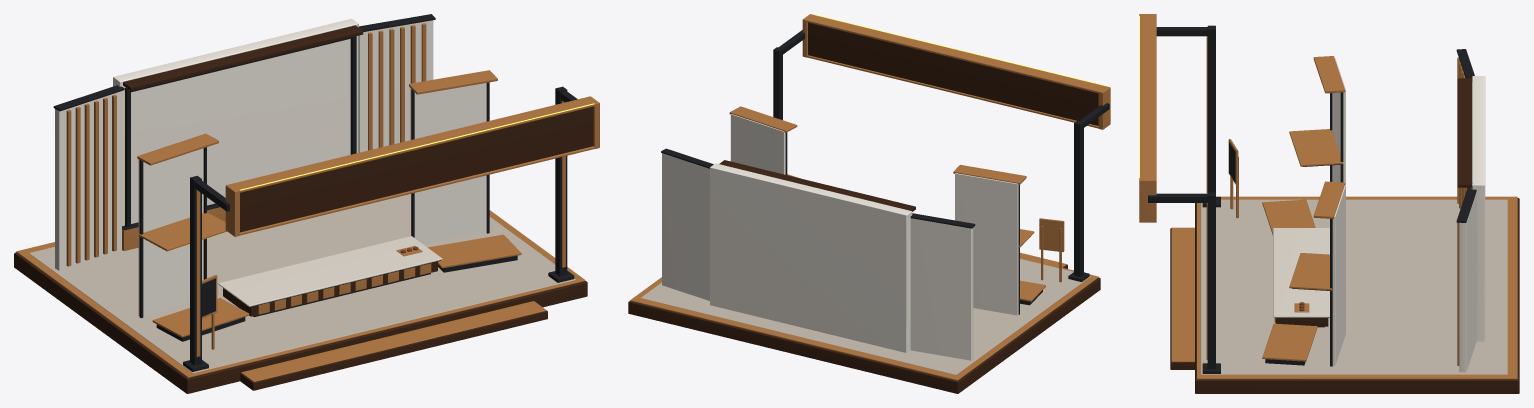
Rendered from ecovita_coffee_v3.glb.
3 views of the same model, side by side, from view 1: azimuth 30°, elevation 25°; view 2: azimuth 150°, elevation 25°; view 3: azimuth 270°, elevation 25° (orthographic). The views are drawn at different scales.
Parts seen in each view (by area): view 1: EcoVita_Coffee_Booth_v3; view 2: EcoVita_Coffee_Booth_v3; view 3: EcoVita_Coffee_Booth_v3.
Boxes of the visible parts, x1,y1,x2,y2 form: EcoVita_Coffee_Booth_v3: (14,14,599,393); EcoVita_Coffee_Booth_v3: (628,14,1110,393); EcoVita_Coffee_Booth_v3: (1139,14,1519,393).
Size of the model in its own units: 7.2 by 3.78 by 6.33.
